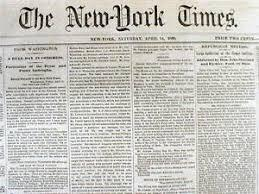Printing industry: (0, 5, 255, 194)
